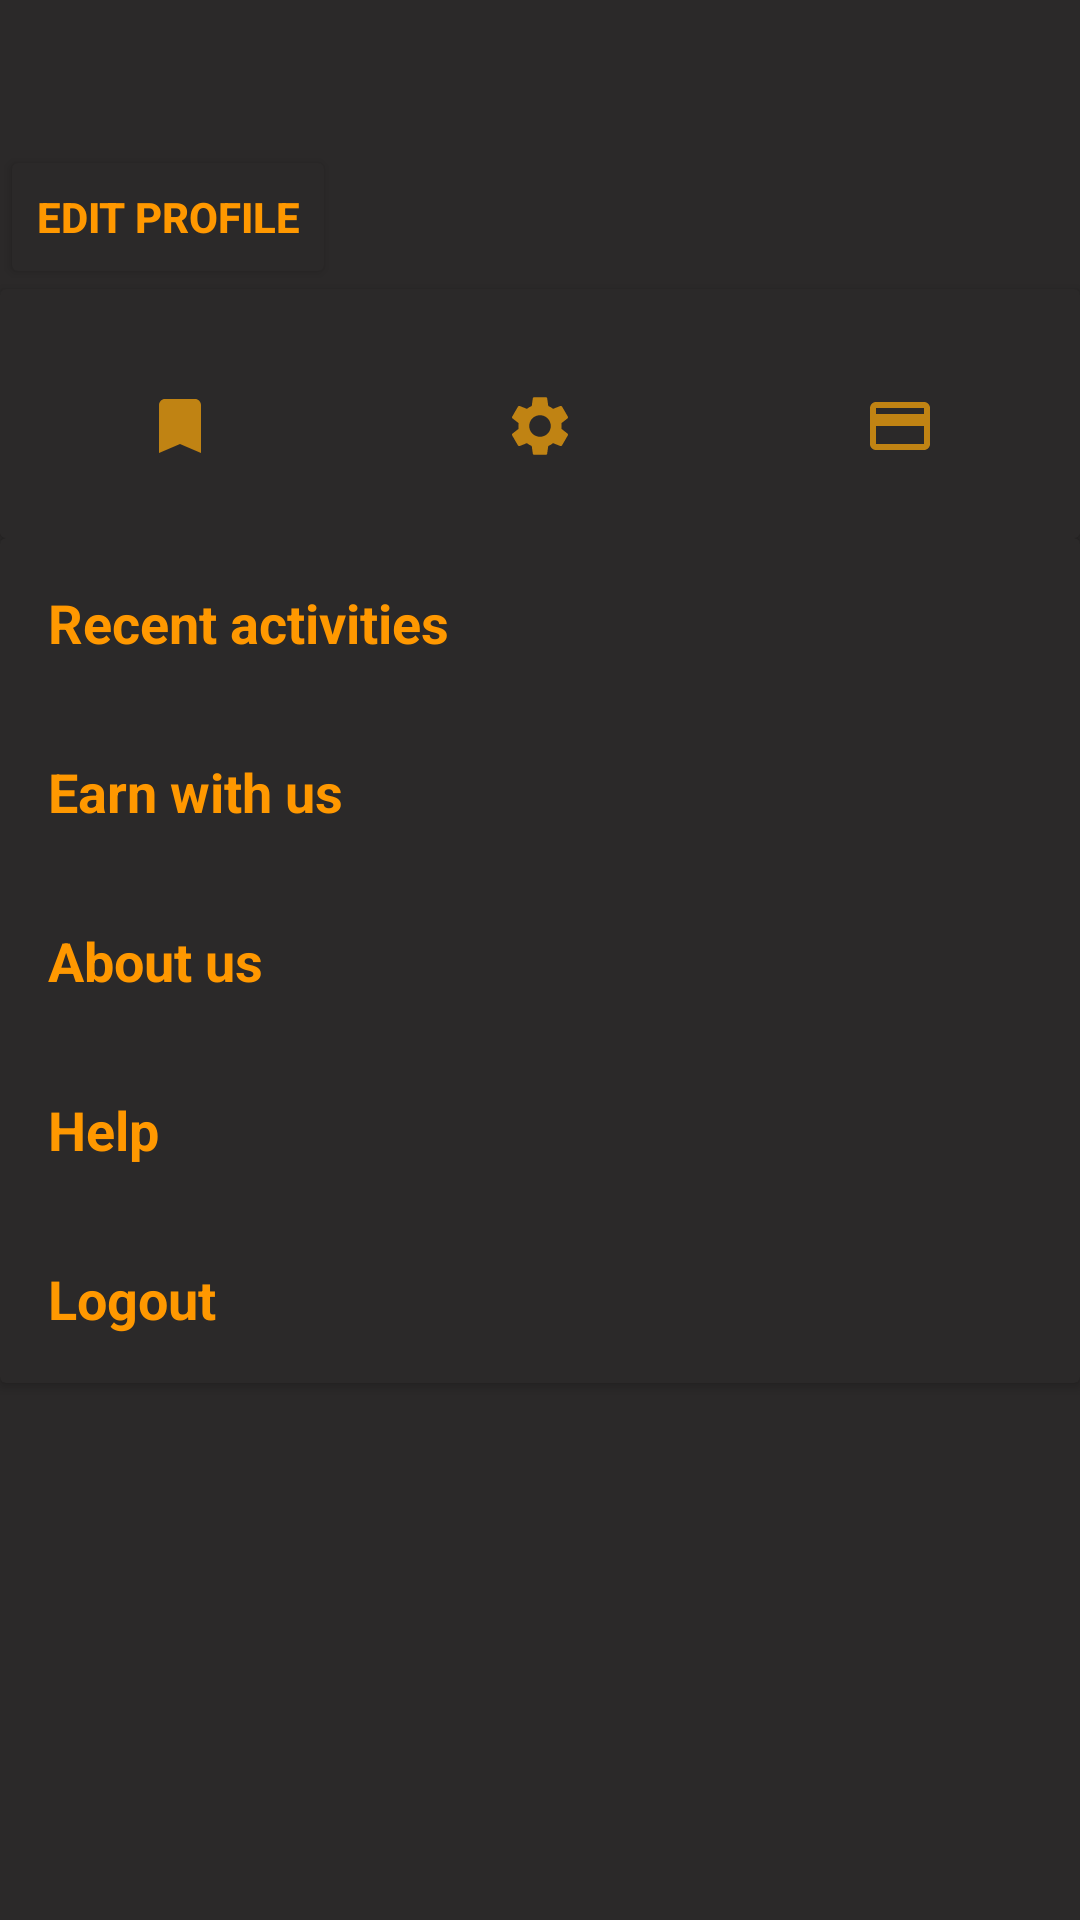

Where to tap for icons on this 1080x1920 app screen, as (x,y):
bookmark: (180,426)
payment: (900,426)
settings: (540,426)
